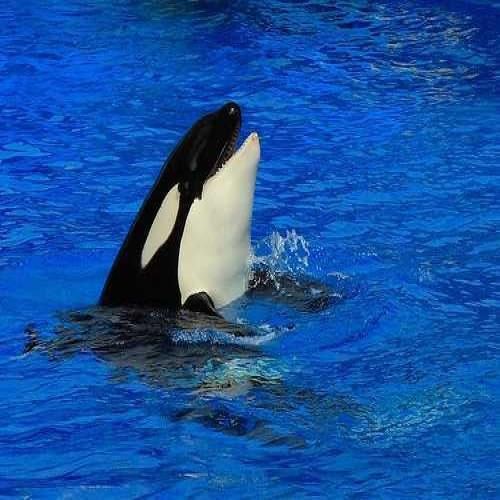killer_whale-endangered: (63, 68, 322, 363)
